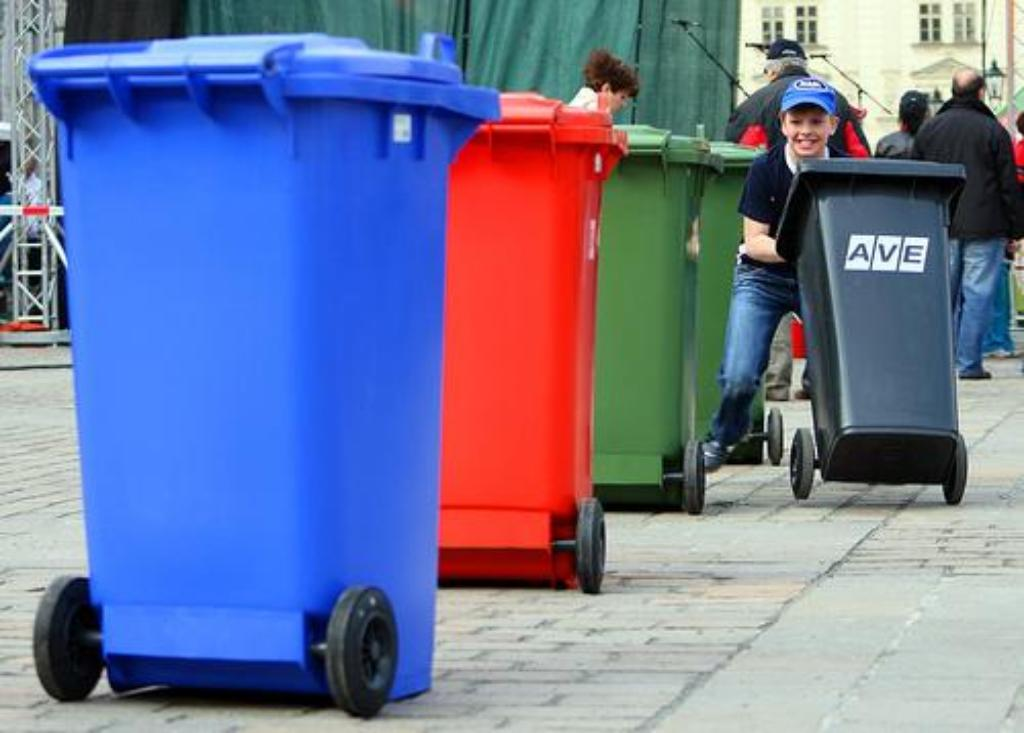dustbin: (20, 40, 470, 720)
